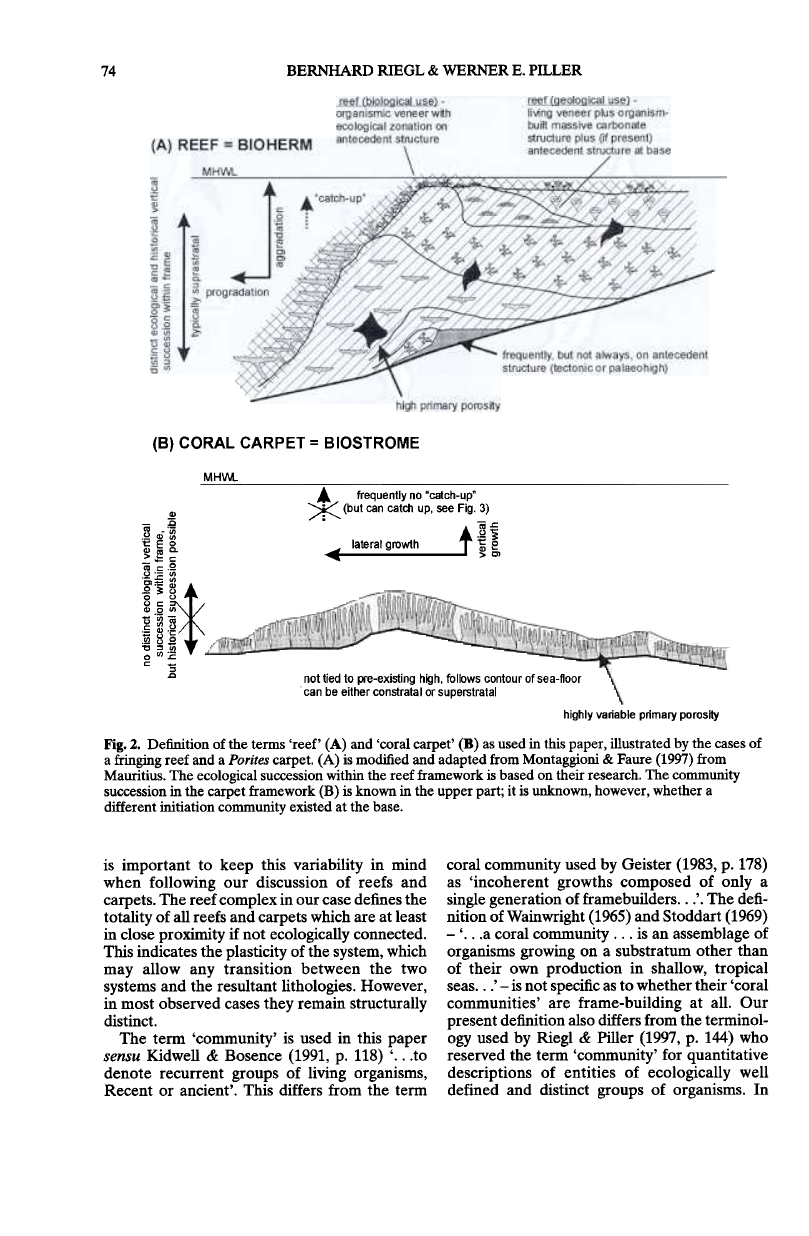figure: (150, 95, 726, 412), (142, 471, 729, 705)
